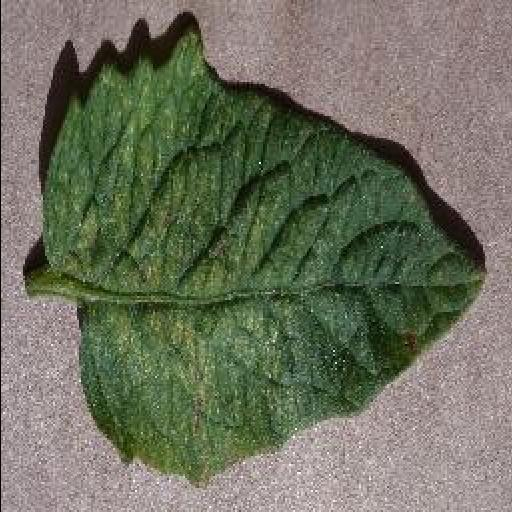disease_tomato: (46, 32, 486, 486)
